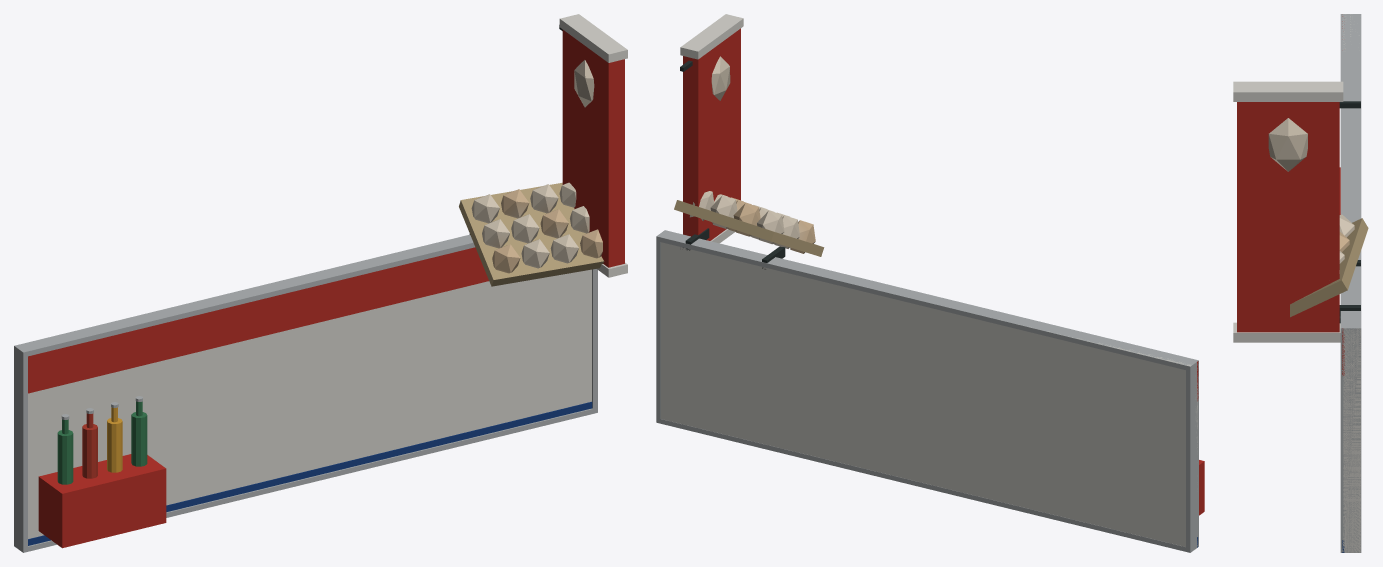
The model's file is bang_tap_hoa_co_hai_44.glb.
3 renders of one model, left to right at view 1: azimuth 30°, elevation 25°; view 2: azimuth 150°, elevation 25°; view 3: azimuth 270°, elevation 25°, orthographic. The views are drawn at different scales.
Parts seen in each view (by area): view 1: bang_tap_hoa_co_hai_44; view 2: bang_tap_hoa_co_hai_44; view 3: bang_tap_hoa_co_hai_44.
Boxes of the visible parts, x1,y1,x2,y2 form: bang_tap_hoa_co_hai_44: (14, 14, 627, 552); bang_tap_hoa_co_hai_44: (656, 14, 1204, 552); bang_tap_hoa_co_hai_44: (1233, 14, 1368, 552).
Size of the model in its own units: 4.2 by 2.81 by 0.7628.
